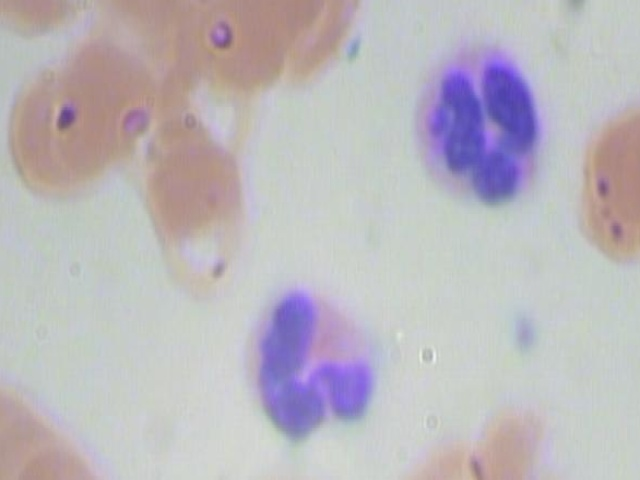Platelets: (502, 311, 547, 368)
RBC: (143, 135, 254, 296), (0, 56, 109, 217), (570, 91, 640, 274), (228, 0, 331, 29)
WBC: (238, 276, 386, 452), (403, 27, 551, 203)
